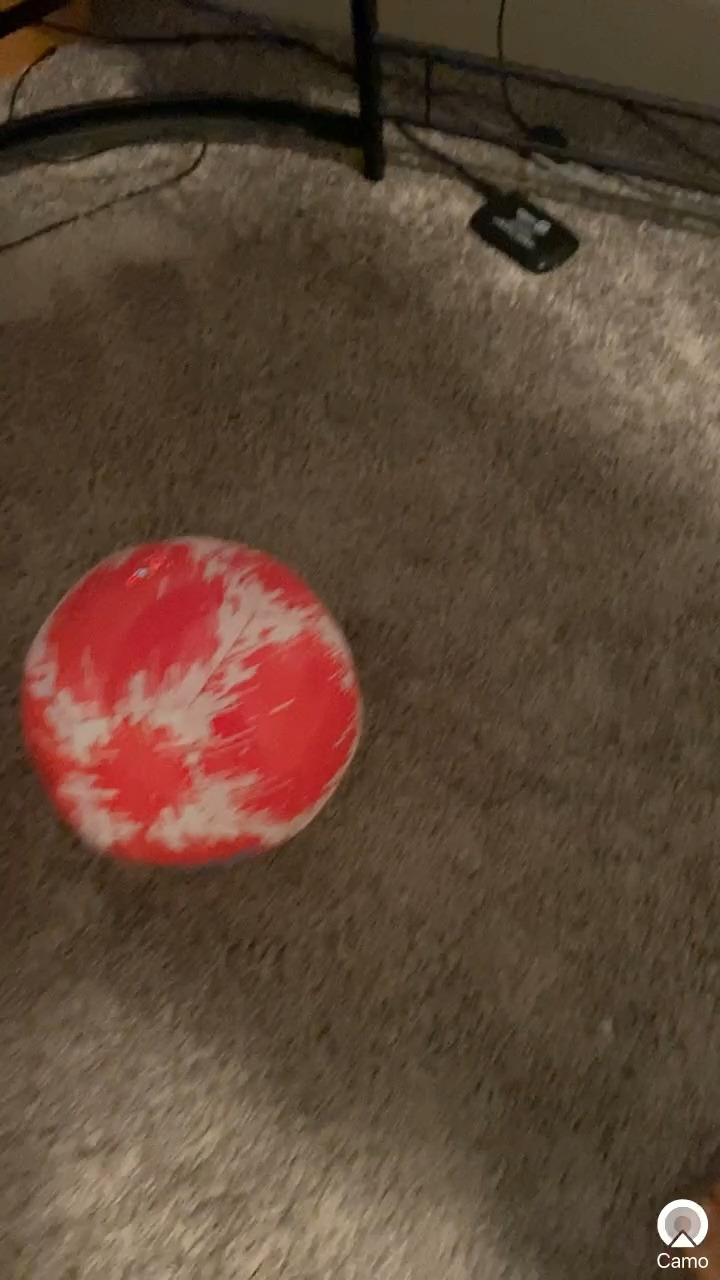Soccer_Ball: (21, 513, 364, 894)
